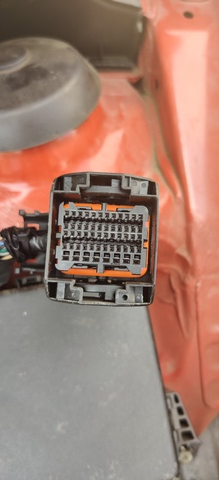connector: (43, 173, 159, 307)
